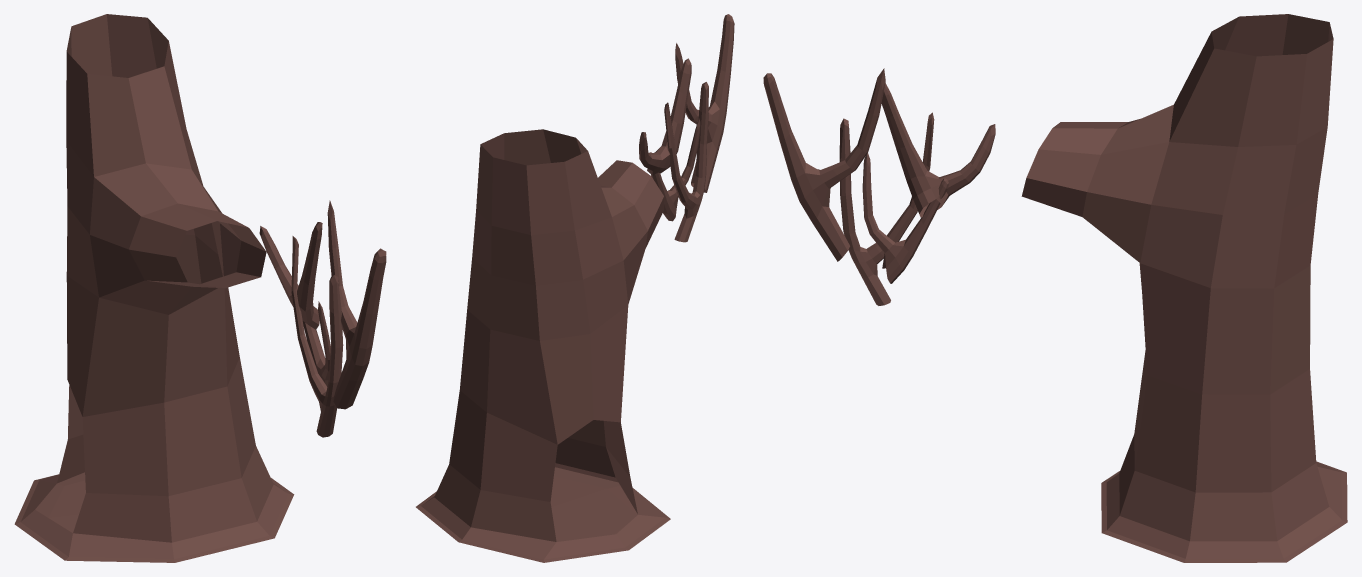
The model's file is Tronco e raizes.fbx.
3 renders of one model, left to right at view 1: azimuth 30°, elevation 25°; view 2: azimuth 150°, elevation 25°; view 3: azimuth 270°, elevation 25°, orthographic. The views are drawn at different scales.
Visible parts, largest first — view 1: TreeEntrance, Roots; view 2: TreeEntrance, Roots; view 3: TreeEntrance, Roots.
Part boxes in pixels (x1=…): TreeEntrance: x1=14, y1=14, x2=294, y2=562; Roots: x1=259, y1=200, x2=386, y2=437; TreeEntrance: x1=416, y1=129, x2=670, y2=562; Roots: x1=639, y1=14, x2=734, y2=242; TreeEntrance: x1=1021, y1=14, x2=1347, y2=562; Roots: x1=763, y1=68, x2=995, y2=305.
Bounding box in the file's own units: 104 × 188 × 213.
